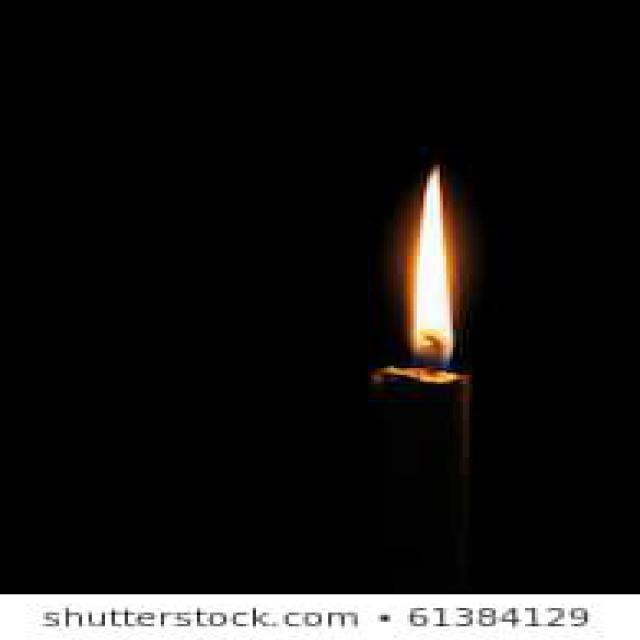Fire: (410, 164, 456, 368)
